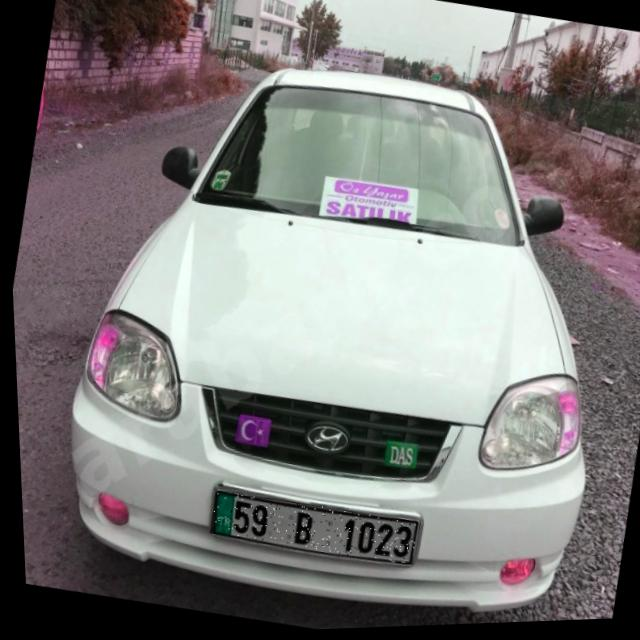license_plate: (203, 486, 415, 574)
